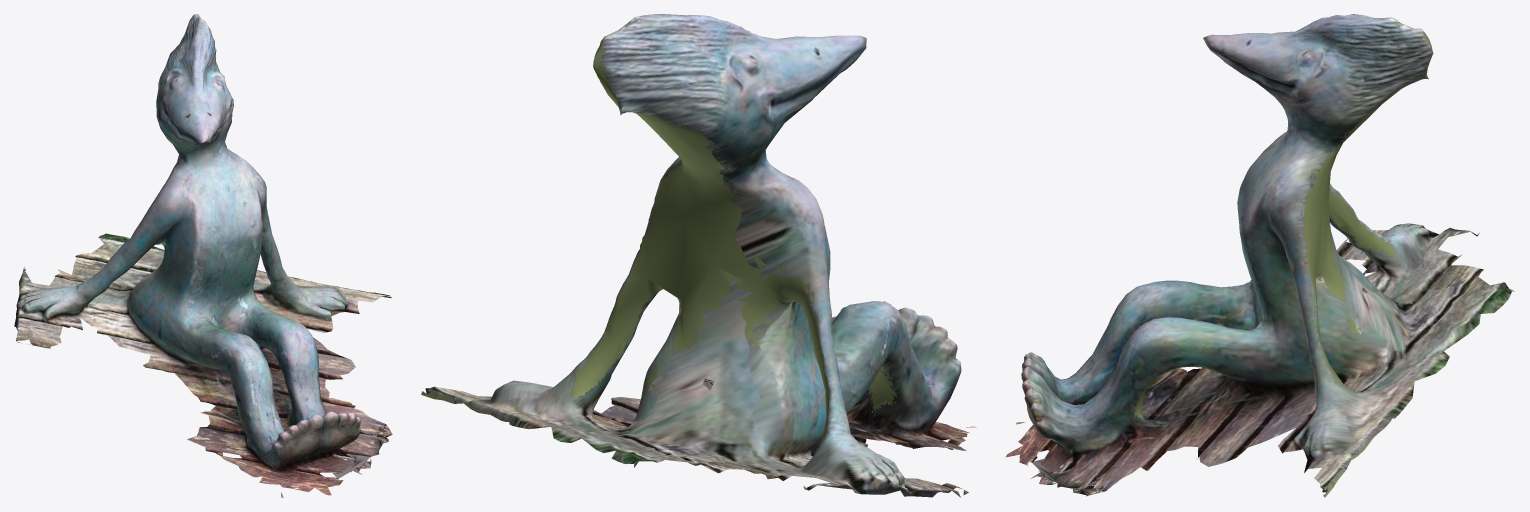
Rendered from geinVogel1.obj.
3 views of the same model, side by side, from view 1: azimuth 30°, elevation 25°; view 2: azimuth 150°, elevation 25°; view 3: azimuth 270°, elevation 25° (orthographic). The views are drawn at different scales.
Bounding box in the file's own units: 17.89 × 16.97 × 17.31.
Materials: 1 (1 with a texture image).
